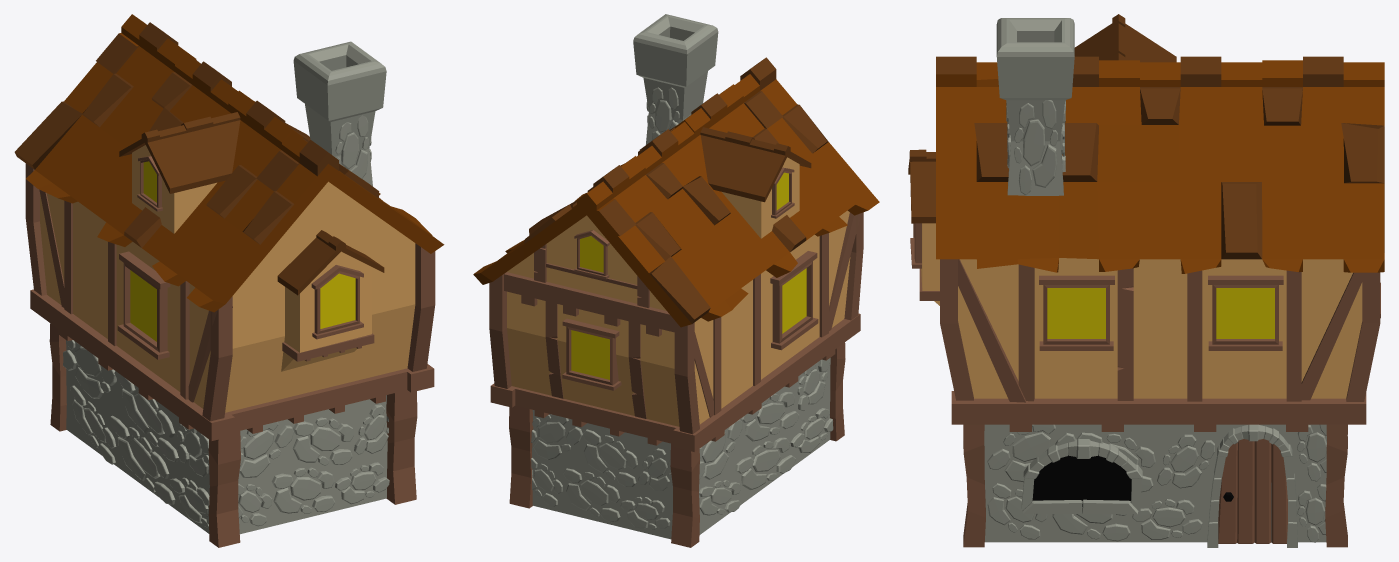
Rendered from MediHouse3.fbx.
3 views of the same model, side by side, from view 1: azimuth 30°, elevation 25°; view 2: azimuth 150°, elevation 25°; view 3: azimuth 270°, elevation 25° (orthographic). The views are drawn at different scales.
Visible parts, largest first — view 1: Sphere; view 2: Sphere; view 3: Sphere.
Boxes of the visible parts, <box> form: Sphere: <box>14,14,444,547</box>; Sphere: <box>473,14,879,547</box>; Sphere: <box>908,14,1384,547</box>.
Bounding box in the file's own units: 710 × 1127 × 990.
